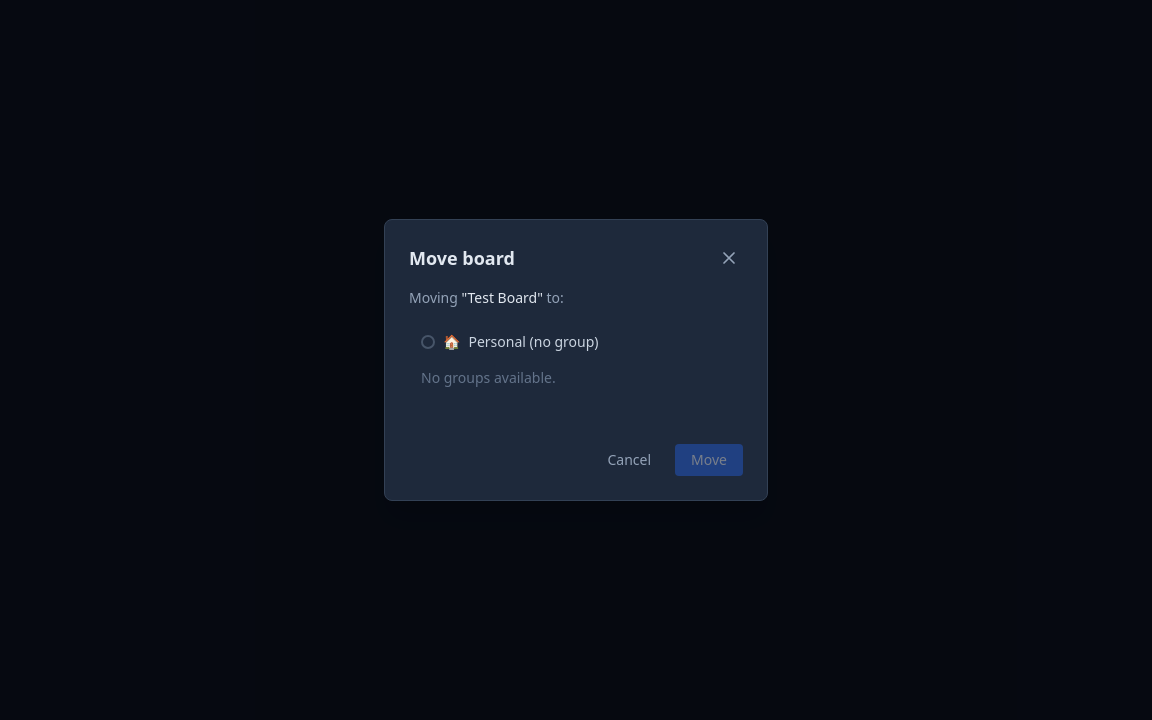
MoveBoardModal › shows a generic message when a move to personal fails
Click the text "Personal (no group)" at (534, 342), box [468, 332, 599, 351]
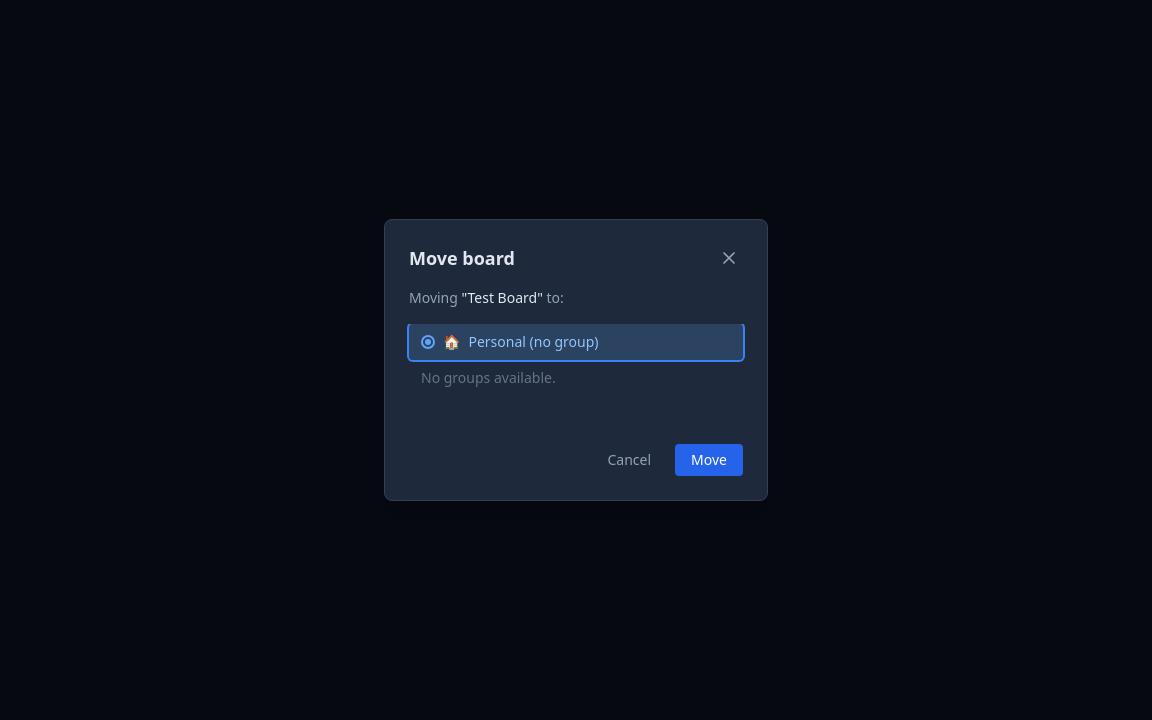
Click the button "Move" at (709, 460), box [675, 444, 743, 476]
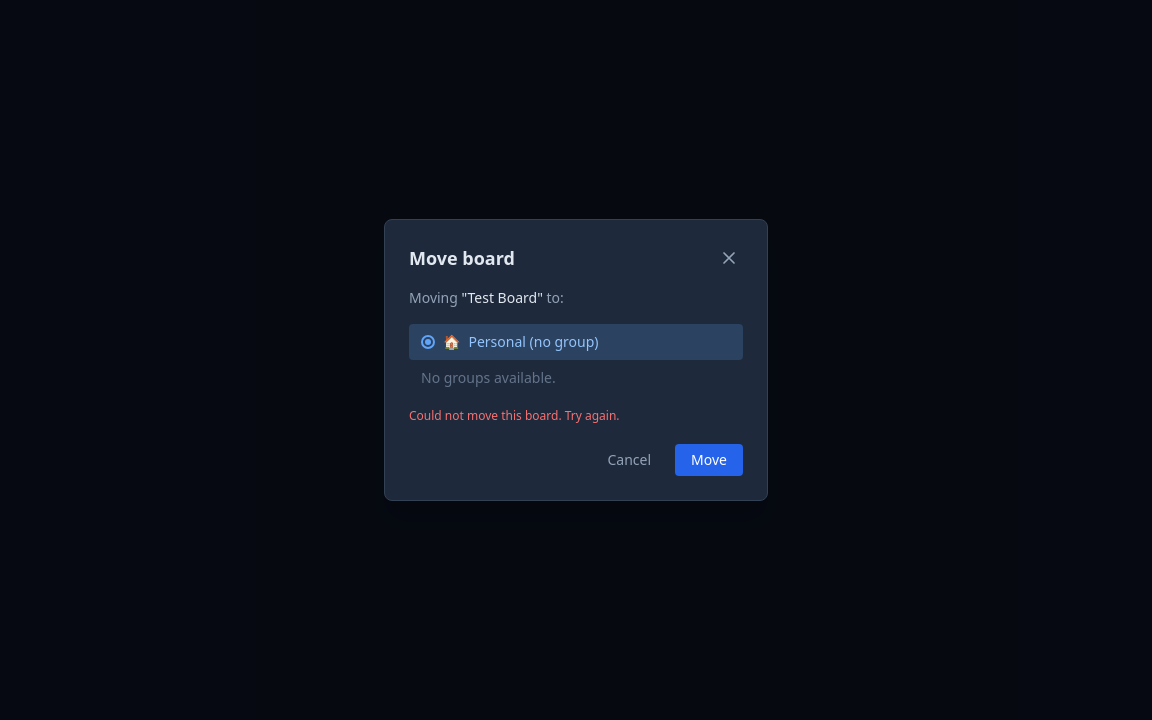
Expected: the message reads "Could not move this board. Try again.", [409, 407, 620, 424]
